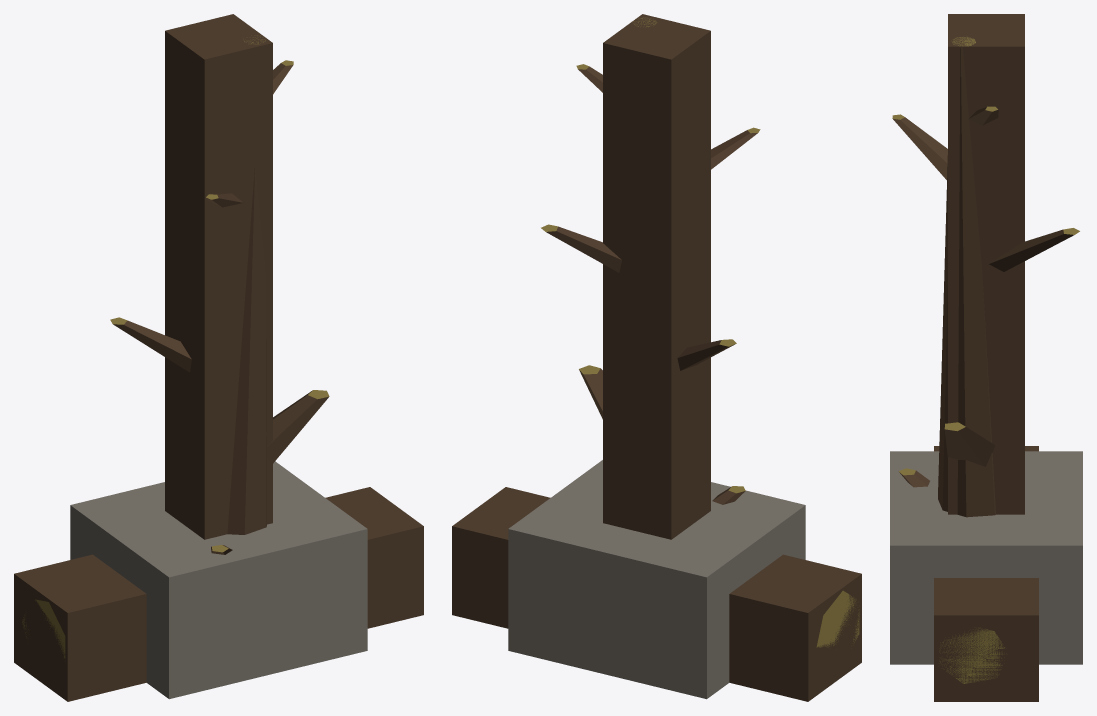
Rendered from props_forest.glb.
3 views of the same model, side by side, from view 1: azimuth 30°, elevation 25°; view 2: azimuth 150°, elevation 25°; view 3: azimuth 270°, elevation 25° (orthographic). The views are drawn at different scales.
Visible parts, largest first — view 1: col_Forest_DeadTree, col_Forest_Rock, col_Forest_FallenLog, Forest_DeadTree_LOD0; view 2: col_Forest_DeadTree, col_Forest_Rock, col_Forest_FallenLog, Forest_DeadTree_LOD0, Forest_FallenLog_LOD0; view 3: col_Forest_DeadTree, col_Forest_Rock, Forest_DeadTree_LOD0, col_Forest_FallenLog, Forest_FallenLog_LOD0.
Part boxes in pixels (x1,y1,x2,y2): col_Forest_DeadTree: (165, 14, 272, 539); col_Forest_Rock: (70, 461, 367, 699); col_Forest_FallenLog: (14, 487, 423, 701); Forest_DeadTree_LOD0: (110, 35, 329, 554); col_Forest_DeadTree: (603, 14, 710, 539); col_Forest_Rock: (508, 460, 805, 699); col_Forest_FallenLog: (452, 487, 861, 701); Forest_DeadTree_LOD0: (541, 17, 760, 504); Forest_FallenLog_LOD0: (816, 590, 859, 647); col_Forest_DeadTree: (948, 14, 1024, 514); col_Forest_Rock: (890, 451, 1082, 664); Forest_DeadTree_LOD0: (892, 37, 1079, 517); col_Forest_FallenLog: (934, 446, 1038, 701); Forest_FallenLog_LOD0: (939, 627, 1004, 683).
Size of what is drawn, in the model's own units: 2.6 by 4.2 by 1.25.
